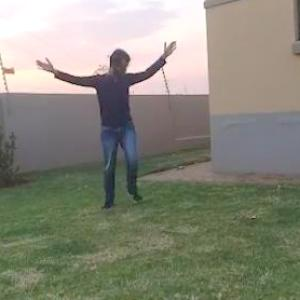takeoff: (31, 26, 182, 203)
